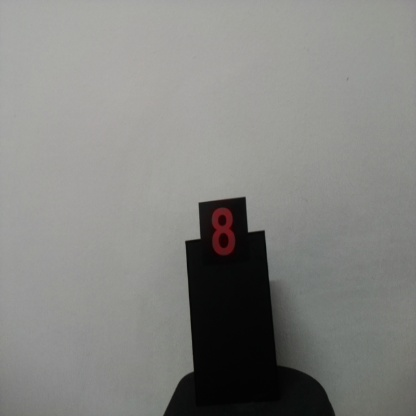id_8: (199, 203, 248, 271)
